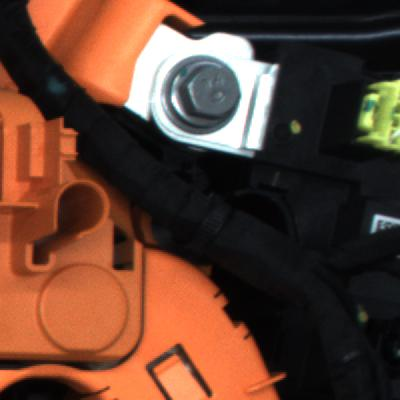nut_b: (163, 55, 286, 148)
